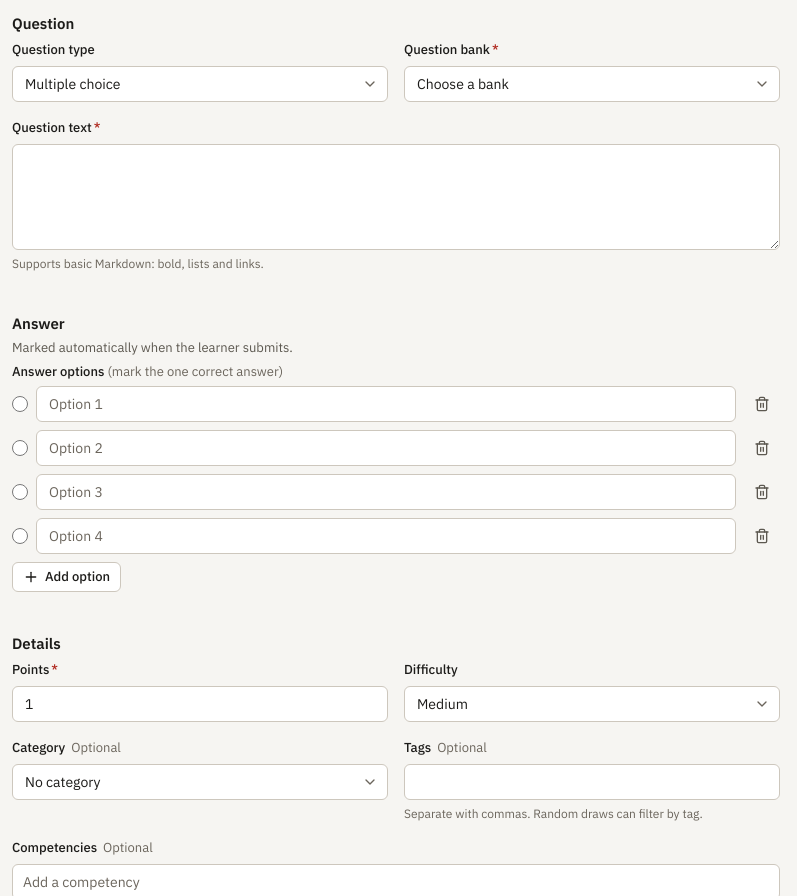
Test: creating a question › shows the matching editor when that type is chosen
The width and height of the screenshot is (797, 896).
Select "Matching" in the dropdown labelled "Question type". click: [200, 84]
box: x1=12 y1=66 x2=388 y2=102
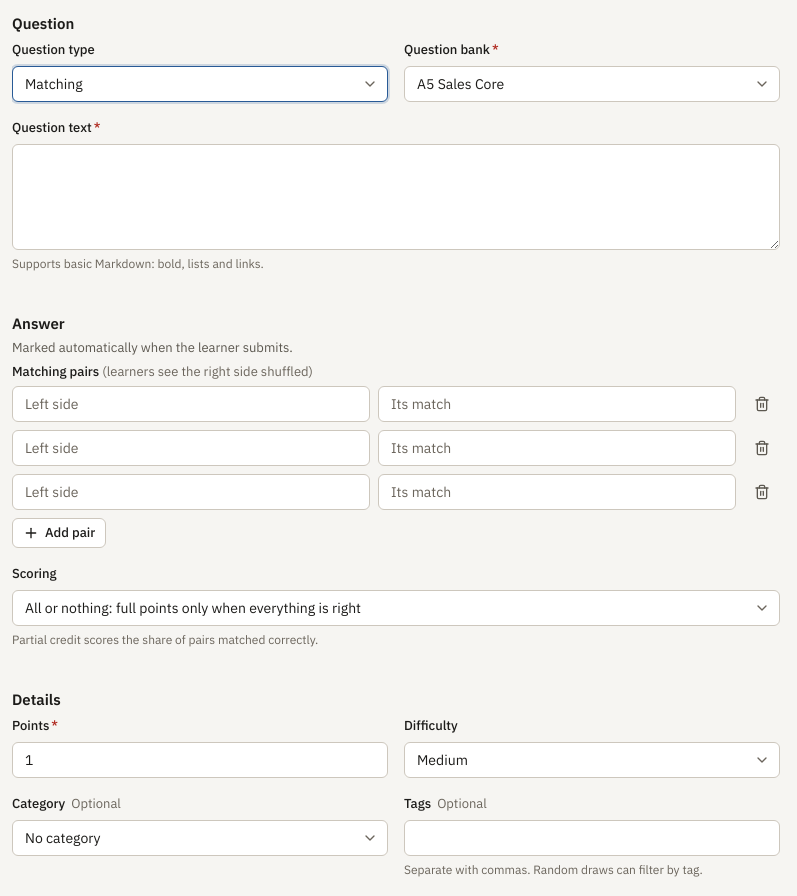
Check: the text "Matching pairs (learners see the right side shuffled)" is shown, box x1=12 y1=362 x2=313 y2=382
